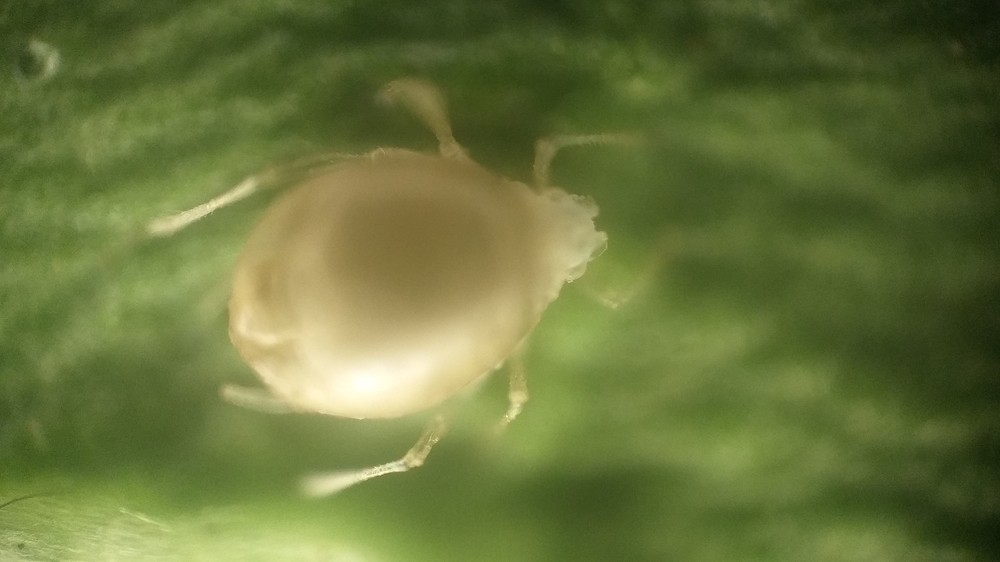Pulgon: (139, 68, 716, 530)
